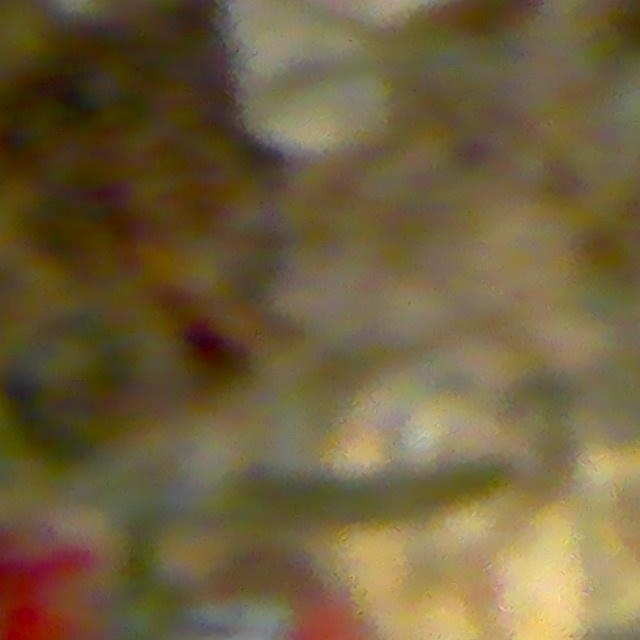SeaGrape: (76, 53, 142, 118)
